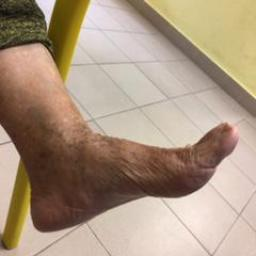Medial View -Left Foot-: (3, 68, 249, 246)
